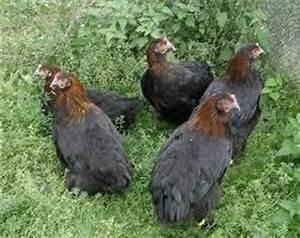hen: (34, 62, 134, 197), (147, 91, 242, 228), (139, 35, 214, 124)
